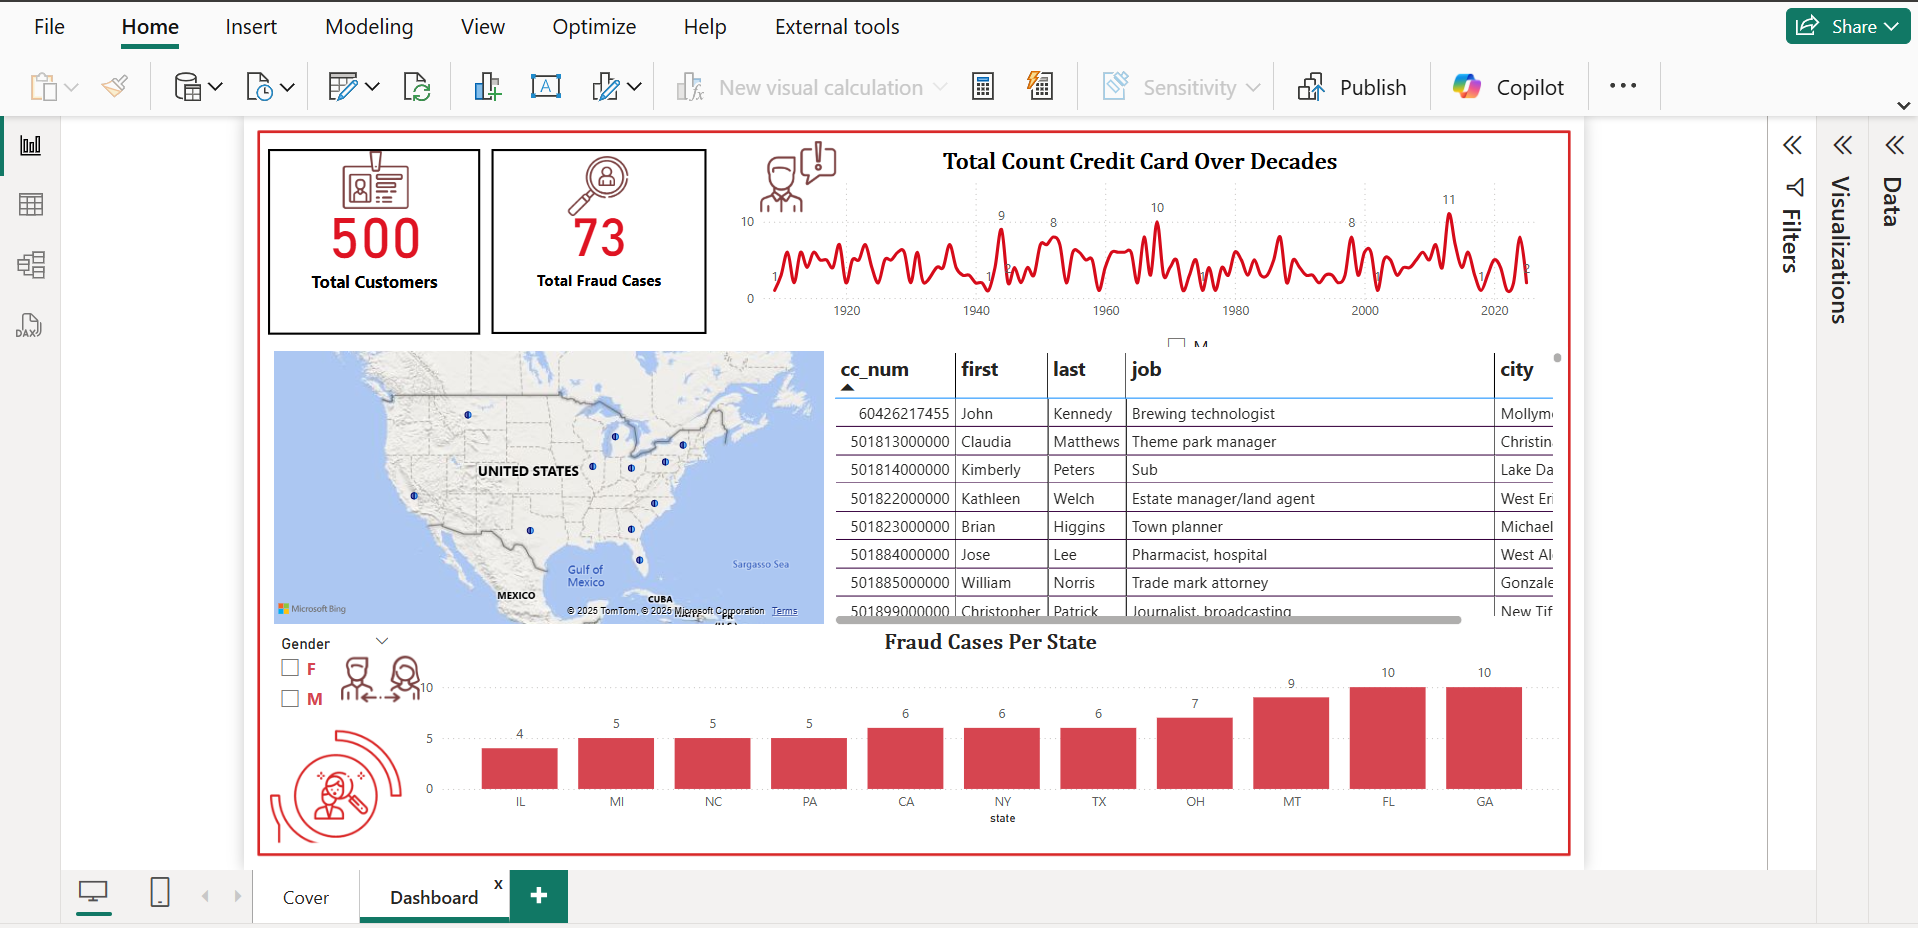

This screenshot's page, from the dashboard's own definition file:
{"tool":"powerbi","page":{"name":"Dashboard","canvas":[1280,720],"ordinal":1},"visuals":[{"type":"card","fields":{"Values":["fraud_customers.is_fraud"]},"box":[22.9,31.4,202.9,177.1],"z":0},{"type":"card","fields":{"Values":["fraud_customers.is_fraud"]},"box":[236.7,31.7,205,176.7],"z":1000},{"type":"slicer","fields":{"Values":["fraud_customers.gender"]},"box":[870,151.7,141.7,101.7],"z":2000},{"type":"columnChart","title":"Fraud Cases Per State","fields":{"Category":["fraud_customers.state"],"Y":["fraud_customers.job"]},"box":[161.7,490,1101.7,191.7],"z":3000},{"type":"lineChart","title":"Total Count Credit Card Over Decades ","fields":{"Category":["fraud_customers.dob.Variation.Date Hierarchy.Year","fraud_customers.dob.Variation.Date Hierarchy.Quarter","fraud_customers.dob.Variation.Date Hierarchy.Month","fraud_customers.dob.Variation.Date Hierarchy.Day"],"Y":["fraud_customers.cc_num"]},"box":[468,32,774,172],"z":4000},{"type":"tableEx","fields":{"Values":["fraud_customers.cc_num","fraud_customers.first","fraud_customers.last","fraud_customers.job","fraud_customers.city"]},"box":[558.3,220,705,270],"z":5000},{"type":"image","box":[303.3,31.7,68.3,70],"z":6000},{"type":"image","box":[88.3,20,73.3,81.7],"z":7000},{"type":"image","box":[486.2,19.1,87.7,78.2],"z":8000},{"type":"slicer","fields":{"Values":["fraud_customers.gender"]},"box":[22.9,490,127.7,95.3],"z":9000},{"type":"image","box":[87.7,501.5,85.8,72.5],"z":10000},{"type":"map","fields":{"Y":["US_GeoCode.latitude"],"X":["US_GeoCode.longitude"],"Series":["fraud_customers.is_fraud"]},"box":[22.9,219.3,535.8,270.7],"z":11000}]}

Visuals, with their boxes on the page's 1280x720 design canvas (x1, y1, x2, y2). These are canvas units, not pixel positions in the 1918x928 screenshot, which may show the page scaled, cropped or inside an application window:
card - fraud_customers.is_fraud: bbox(23, 31, 226, 208)
card - fraud_customers.is_fraud: bbox(237, 32, 442, 208)
slicer - fraud_customers.gender: bbox(870, 152, 1012, 253)
"Fraud Cases Per State" columnChart: bbox(162, 490, 1263, 682)
"Total Count Credit Card Over Decades " lineChart: bbox(468, 32, 1242, 204)
tableEx - fraud_customers.cc_num x fraud_customers.first: bbox(558, 220, 1263, 490)
image: bbox(303, 32, 372, 102)
image: bbox(88, 20, 162, 102)
image: bbox(486, 19, 574, 97)
slicer - fraud_customers.gender: bbox(23, 490, 151, 585)
image: bbox(88, 502, 174, 574)
map - US_GeoCode.latitude x US_GeoCode.longitude: bbox(23, 219, 559, 490)
